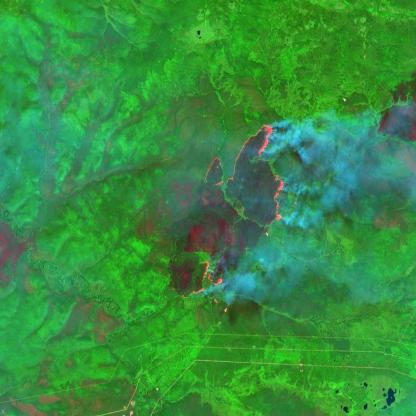fire: (202, 121, 285, 226), (190, 256, 224, 302)
